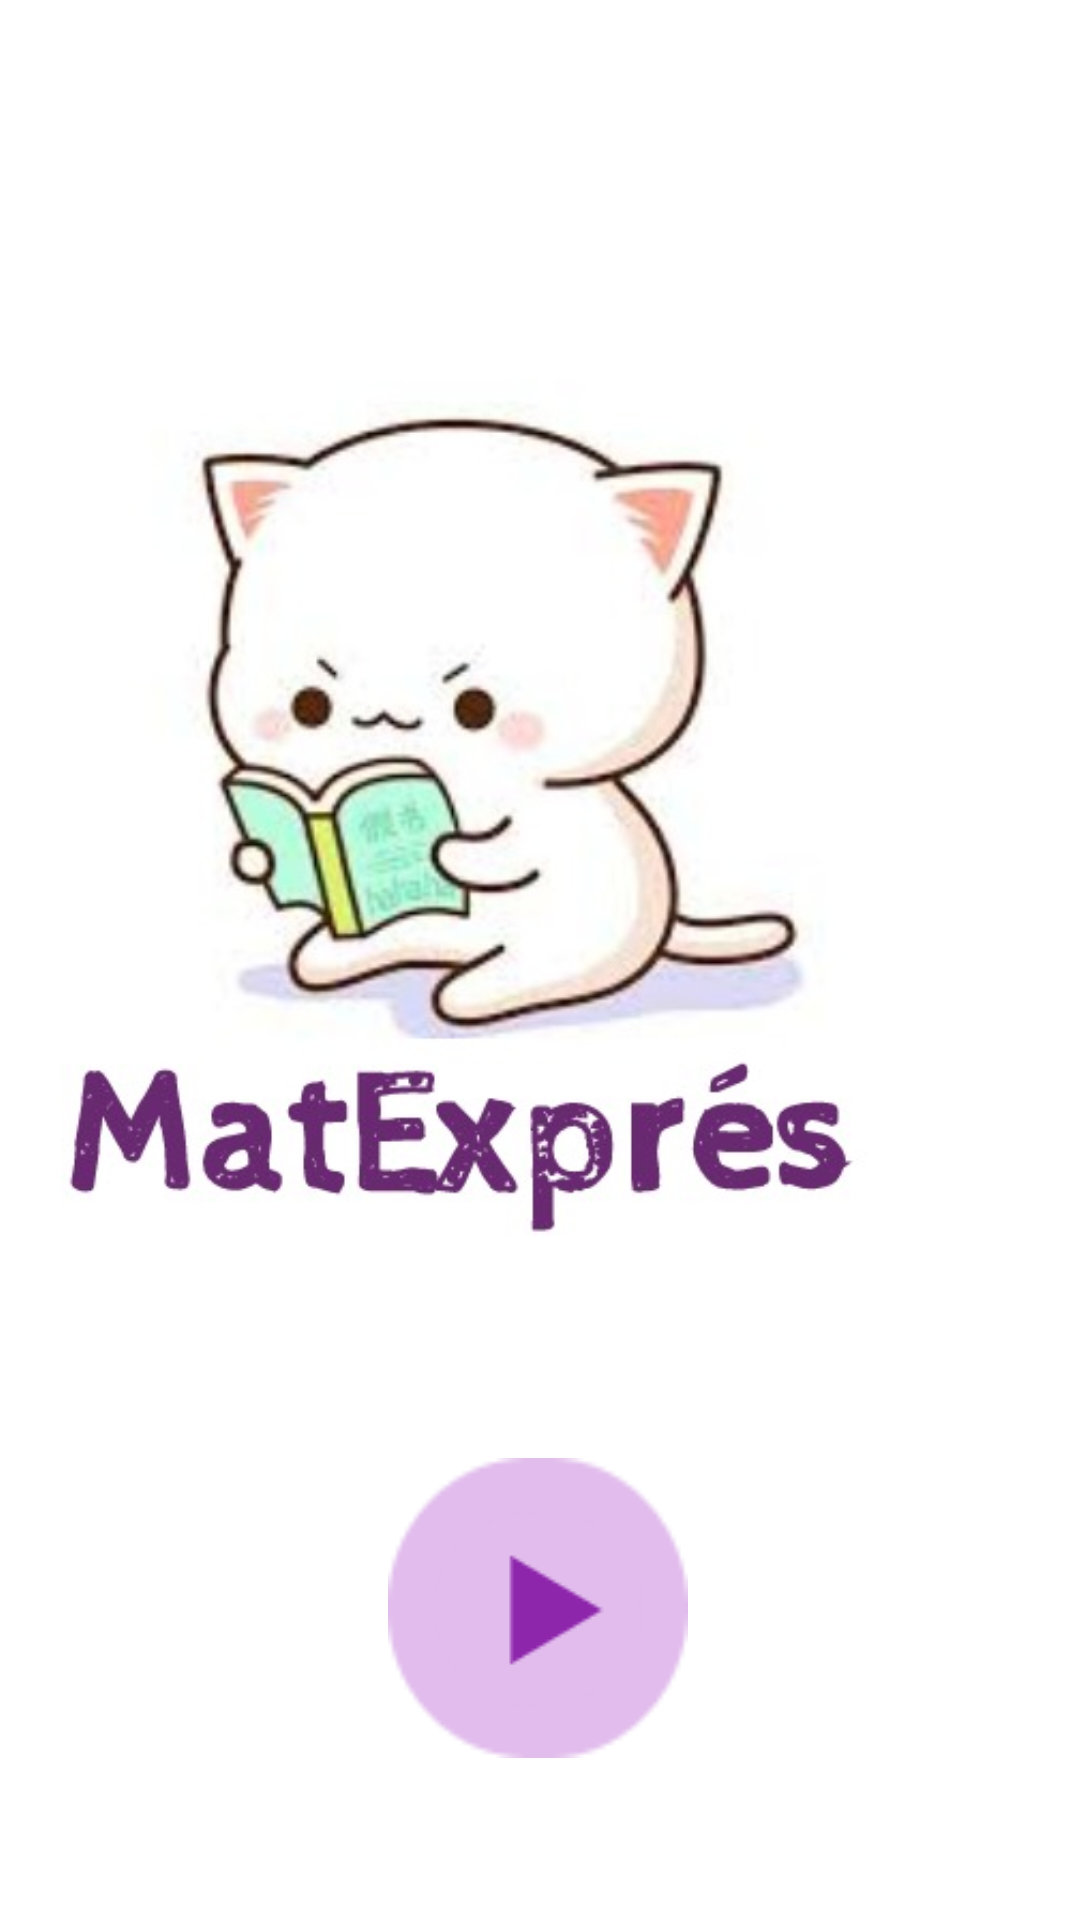

Icon click points for this 1080px×1920px phone screenshot, format (x,y):
Iniciar Aplicación: (538,1608)
